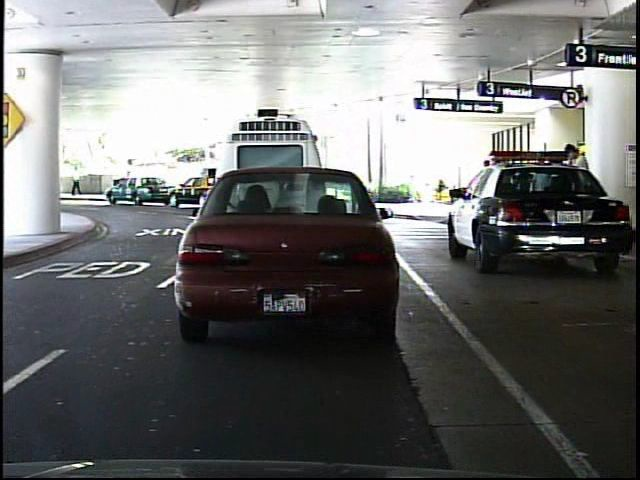person: (560, 137, 596, 243), (120, 167, 138, 200), (71, 162, 84, 197)
